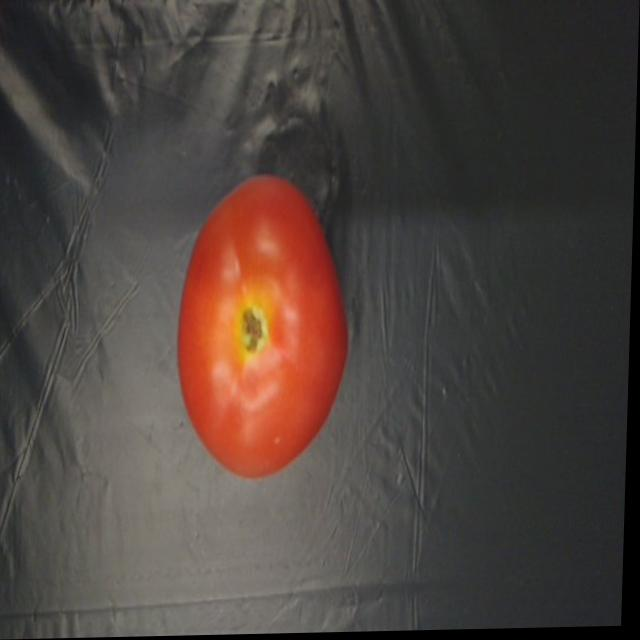kirmizi: (171, 150, 358, 483)
